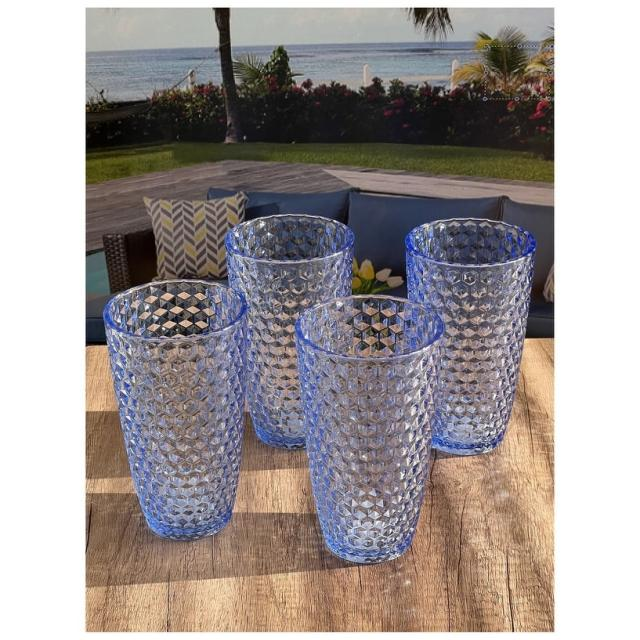glass: (105, 254, 272, 559), (290, 293, 467, 570), (212, 188, 376, 471), (392, 212, 552, 472)
